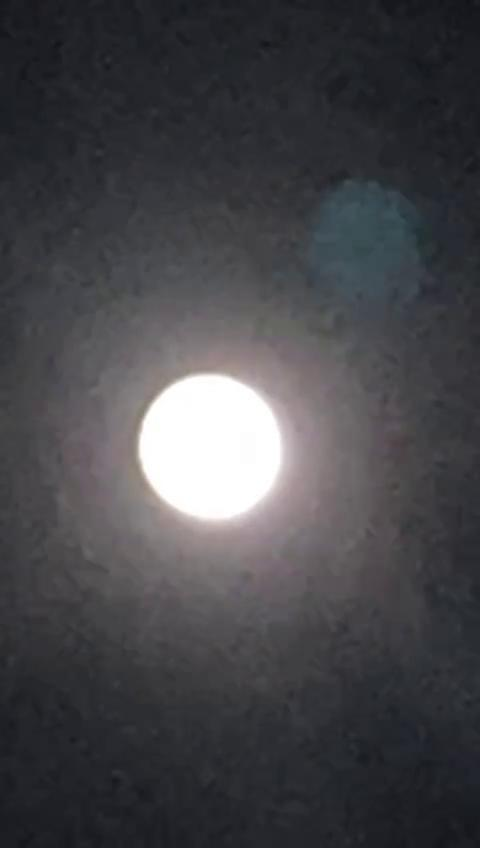moon: (142, 340, 309, 531)
